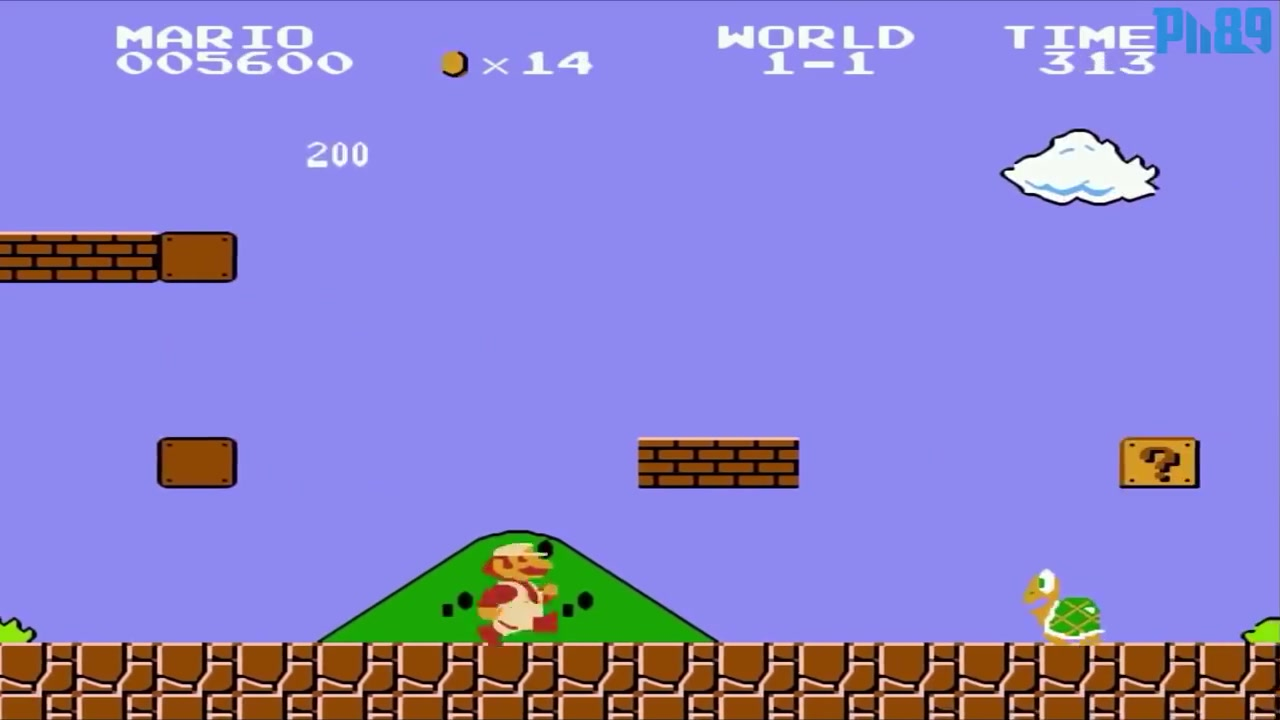mario: (469, 537, 562, 642)
